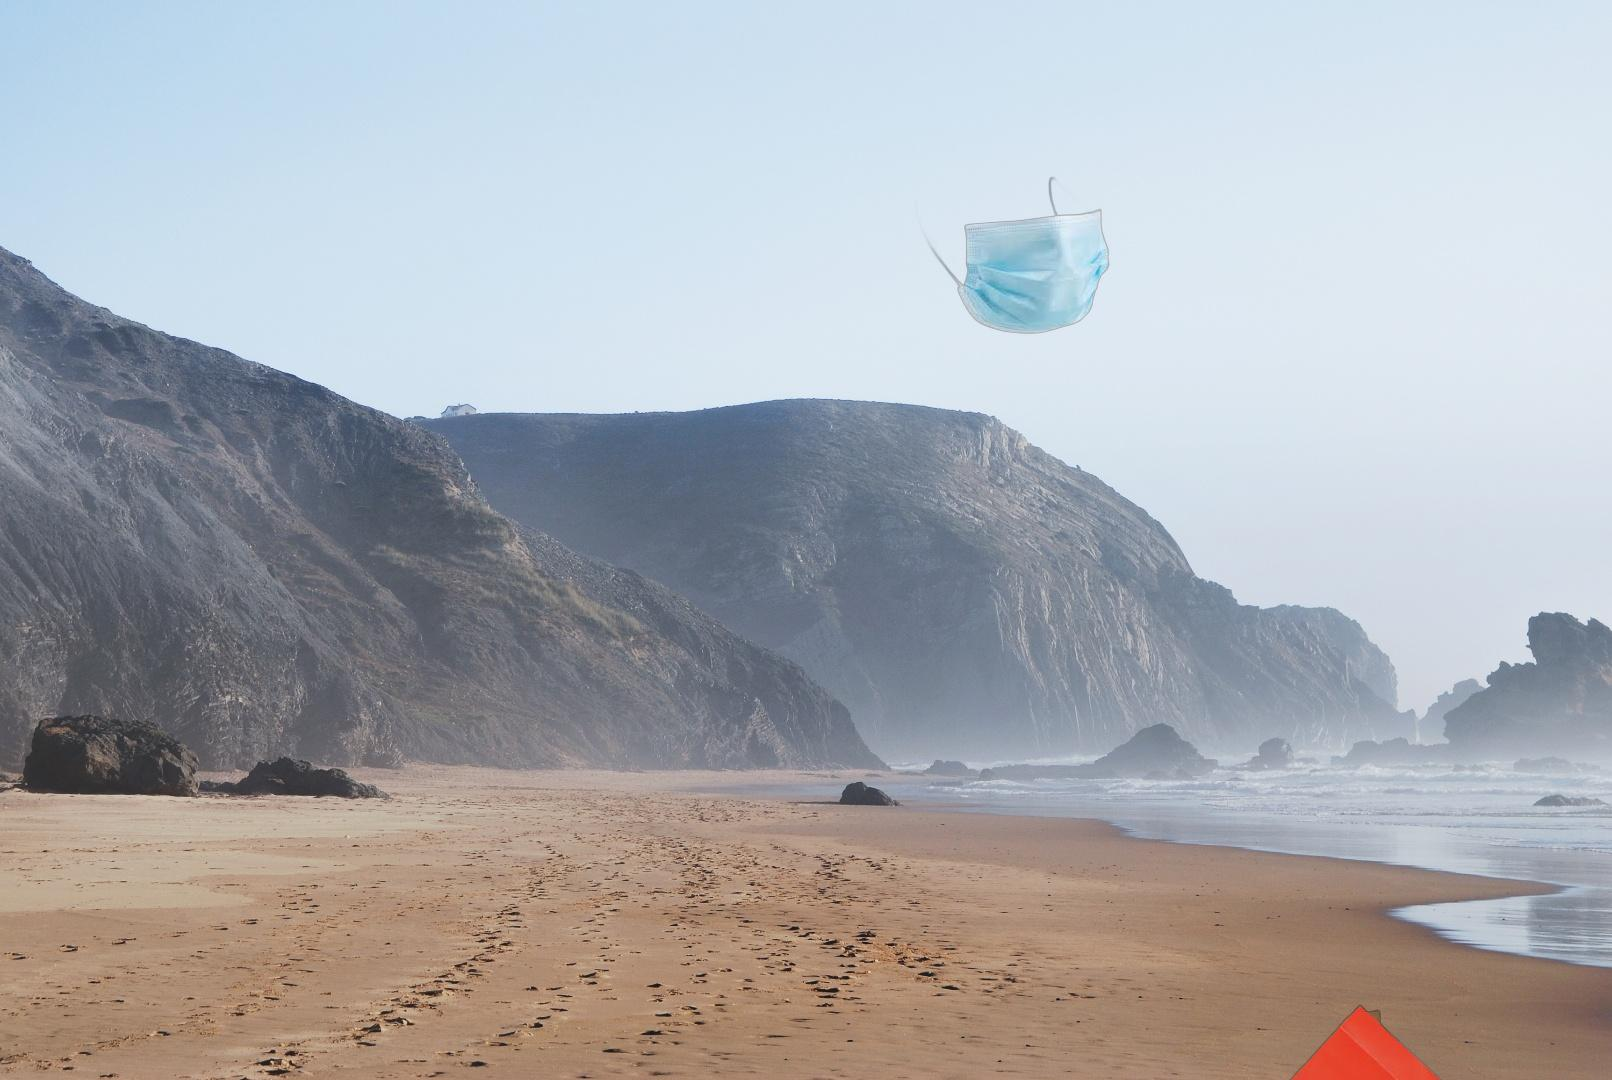paper-bag: (1264, 1004, 1493, 1080)
trash: (914, 175, 1112, 336)
